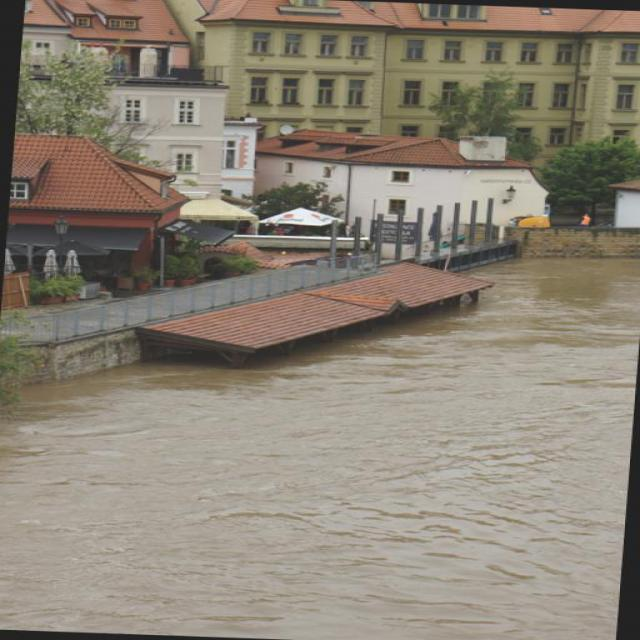flood: (0, 234, 639, 639)
